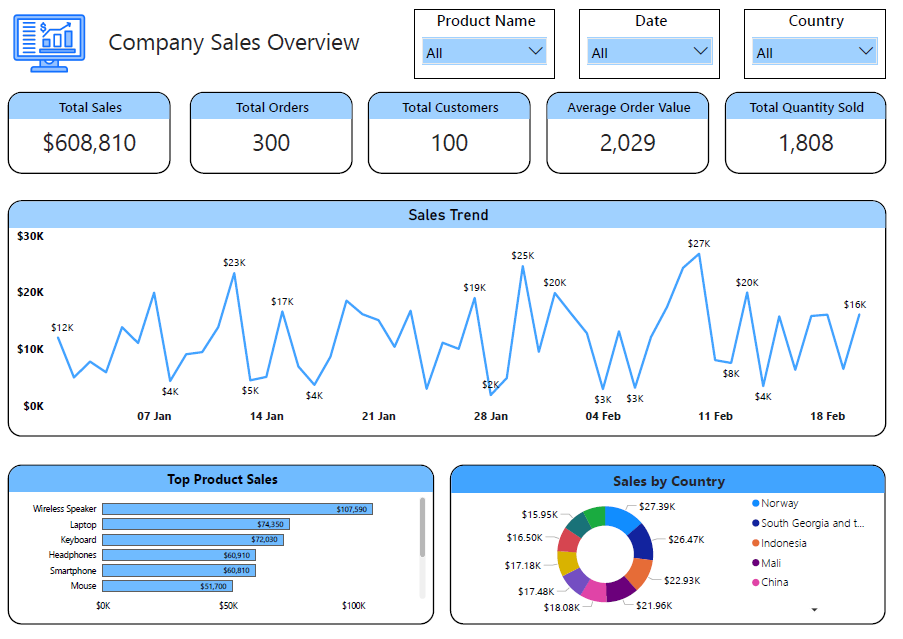

What the dashboard file says about the page in this screenshot:
{"tool":"powerbi","page":{"name":"Page 1","canvas":[1280,900],"ordinal":0},"visuals":[{"type":"card","title":"Total Sales","fields":{"Values":["Sum(FACT_SALES.TOTAL_AMOUNT)"]},"box":[14.7,130.4,229.6,115.7],"z":0},{"type":"card","title":"Total Orders","fields":{"Values":["CountNonNull(DIM_ORDER.ORDER_ID)"]},"box":[271.8,130.4,229.6,115.7],"z":1000},{"type":"card","title":"Total Customers","fields":{"Values":["CountNonNull(DIM_CUSTOMER.CUSTOMER_ID)"]},"box":[523.5,130.4,229.6,115.7],"z":2000},{"type":"card","title":"Average Order Value","fields":{"Values":["FACT_SALES.AOV"]},"box":[775.1,130.4,229.6,115.7],"z":3000},{"type":"card","title":"Total Quantity Sold","fields":{"Values":["Sum(FACT_SALES.QUANTITY)"]},"box":[1026.7,130.4,227.8,115.7],"z":4000},{"type":"lineChart","title":"Sales Trend","fields":{"Category":["DIM_DATE.DATE.Variation.Date Hierarchy.Year","DIM_DATE.DATE.Variation.Date Hierarchy.Quarter","DIM_DATE.DATE.Variation.Date Hierarchy.Month","DIM_DATE.DATE.Variation.Date Hierarchy.Day"],"Y":["Sum(FACT_SALES.TOTAL_AMOUNT)"]},"box":[14.7,282.9,1239.8,334.3],"z":5000},{"type":"barChart","title":"Top Product Sales","fields":{"Category":["DIM_PRODUCT.PRODUCT_NAME"],"Y":["Sum(FACT_SALES.TOTAL_AMOUNT)"]},"box":[14.7,655.7,602.4,225.9],"z":6000},{"type":"donutChart","title":"Sales by Country","fields":{"Y":["Sum(FACT_SALES.TOTAL_AMOUNT)"],"Category":["DIM_CUSTOMER.COUNTRY"]},"box":[639.2,655.7,615.3,225.9],"z":7000},{"type":"slicer","title":"Product Name","fields":{"Values":["DIM_PRODUCT.PRODUCT_NAME"]},"box":[587.8,12.9,200.2,99.2],"z":8000},{"type":"slicer","title":"Date","fields":{"Values":["DIM_DATE.DATE.Variation.Date Hierarchy.Year","DIM_DATE.DATE.Variation.Date Hierarchy.Month"]},"box":[821,12.9,200.2,99.2],"z":9000},{"type":"slicer","title":"Country","fields":{"Values":["DIM_CUSTOMER.COUNTRY"]},"box":[1054.3,12.9,200.2,99.2],"z":10000},{"type":"image","title":"sdfas","box":[14.7,5.5,117.6,112],"z":11000},{"type":"textbox","title":"dafdsaf","box":[145.1,31.2,378.4,62.4],"z":12000}]}

Visuals, with their boxes in screenshot pixels (x1, y1, x2, y2), scaled from the page's 1280x900 canvas onto the 903x639 screenshot:
"Total Sales" card: locate(10, 93, 172, 175)
"Total Orders" card: locate(192, 93, 354, 175)
"Total Customers" card: locate(369, 93, 531, 175)
"Average Order Value" card: locate(547, 93, 709, 175)
"Total Quantity Sold" card: locate(724, 93, 885, 175)
"Sales Trend" lineChart: locate(10, 201, 885, 438)
"Top Product Sales" barChart: locate(10, 466, 435, 626)
"Sales by Country" donutChart: locate(451, 466, 885, 626)
"Product Name" slicer: locate(415, 9, 556, 80)
"Date" slicer: locate(579, 9, 720, 80)
"Country" slicer: locate(744, 9, 885, 80)
"sdfas" image: locate(10, 4, 93, 83)
"dafdsaf" textbox: locate(102, 22, 369, 66)
